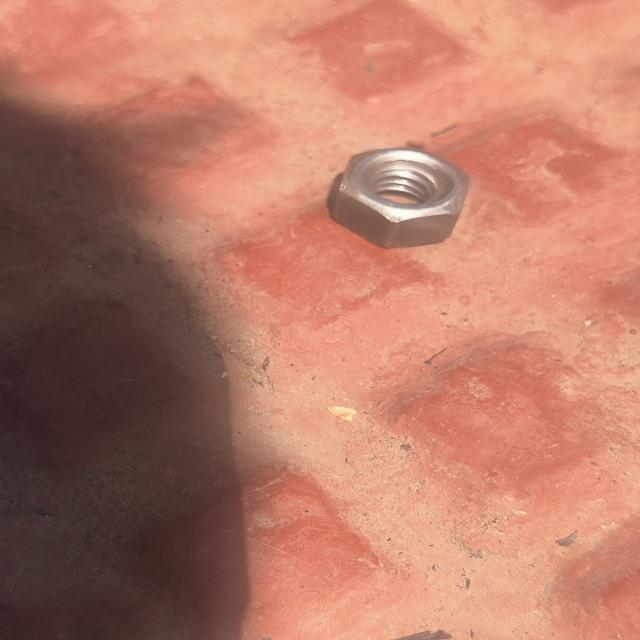disinfected nut: (327, 148, 470, 248)
